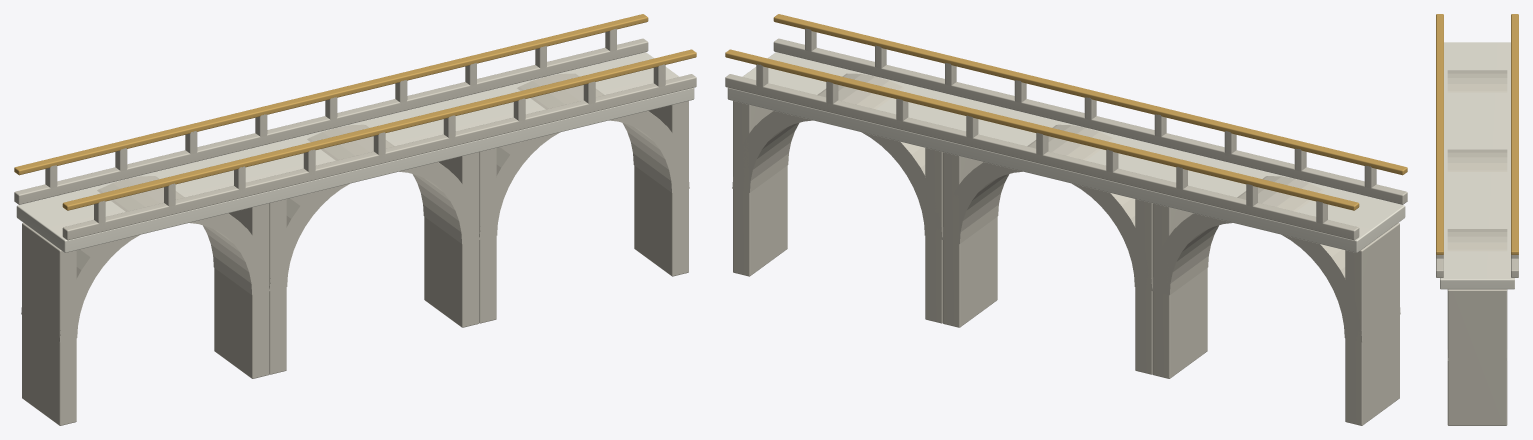
File: bridge.glb
The picture shows the model from 3 angles, left to right: view 1: azimuth 30°, elevation 25°; view 2: azimuth 150°, elevation 25°; view 3: azimuth 270°, elevation 25°; orthographic projection. The views are drawn at different scales.
Visible parts, largest first — view 1: Parapet foot, Bridge deck, Parapet rail; view 2: Parapet foot, Bridge deck, Parapet rail; view 3: Parapet foot, Bridge deck, Parapet rail.
Part boxes in pixels (box(x1,y1,x2,y2)): Parapet foot: box(14, 28, 696, 425); Bridge deck: box(16, 52, 694, 252); Parapet rail: box(14, 14, 696, 210); Parapet foot: box(725, 28, 1407, 425); Bridge deck: box(727, 52, 1405, 252); Parapet rail: box(725, 14, 1407, 210); Parapet foot: box(1436, 70, 1518, 425); Bridge deck: box(1440, 42, 1514, 289); Parapet rail: box(1436, 14, 1518, 254).
Bounding box in the file's own units: 18 × 6.17 × 2.65.
